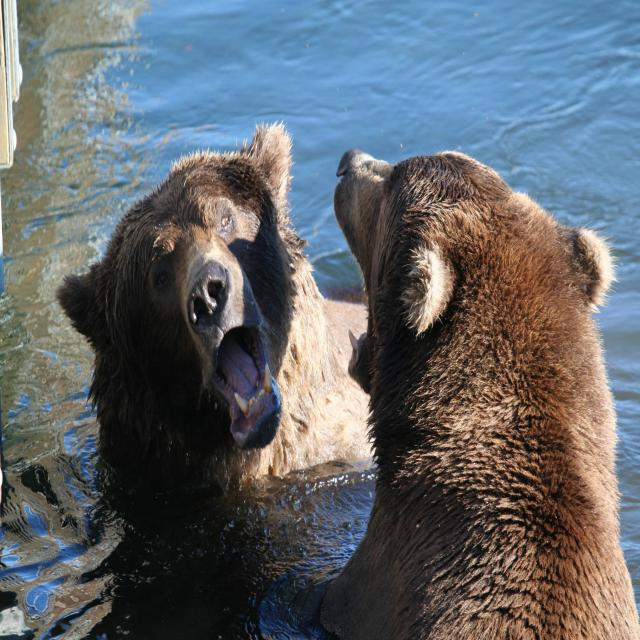bear face: (334, 149, 629, 629), (58, 118, 361, 474)
